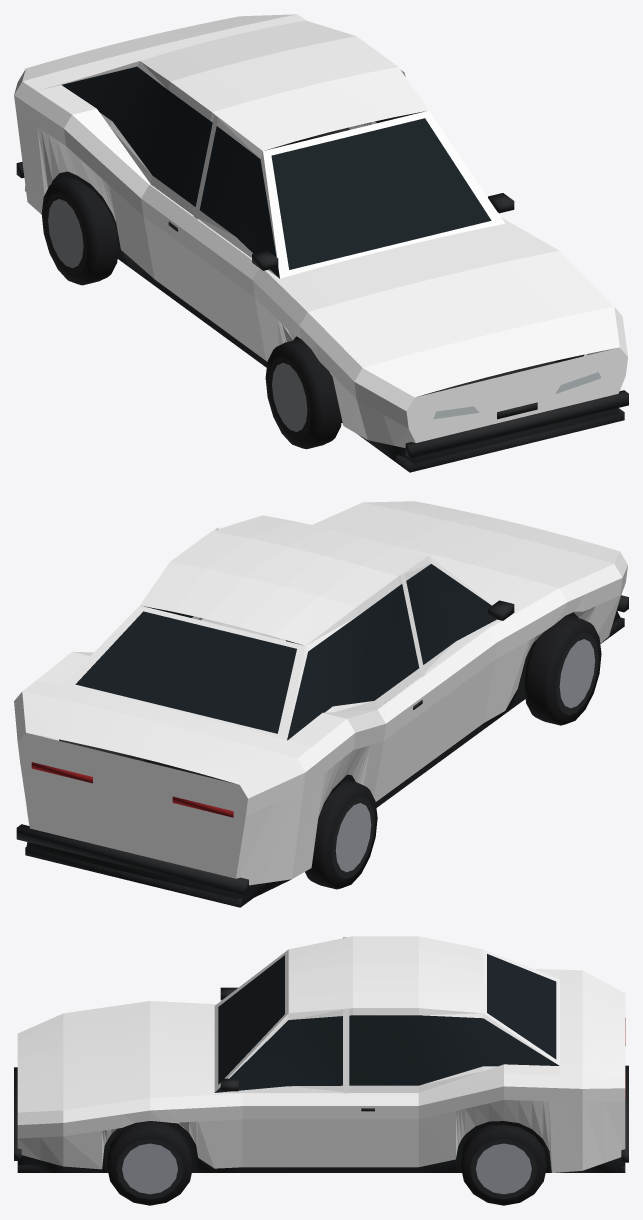
File: tridella_tavola.glb
3 views of the same model, one above another, from view 1: azimuth 30°, elevation 25°; view 2: azimuth 150°, elevation 25°; view 3: azimuth 270°, elevation 25° (orthographic). The views are drawn at different scales.
Parts seen in each view (by area): view 1: Body_Paint, Body_Details, Mount_RearLeft_Wheel_Details, Mount_FrontLeft_Wheel_Details; view 2: Body_Paint, Body_Details, Mount_FrontLeft_Wheel_Details, Mount_RearLeft_Wheel_Details; view 3: Body_Paint, Body_Details, Mount_FrontRight_Wheel_Details, Mount_RearRight_Wheel_Details.
Part boxes in pixels (box(x1,y1,x2,y2)): Body_Paint: box(14, 14, 627, 447); Body_Details: box(16, 66, 628, 472); Mount_RearLeft_Wheel_Details: box(41, 177, 118, 285); Mount_FrontLeft_Wheel_Details: box(265, 339, 341, 449); Body_Paint: box(14, 501, 627, 885); Body_Details: box(16, 564, 628, 907); Mount_FrontLeft_Wheel_Details: box(524, 615, 601, 725); Mount_RearLeft_Wheel_Details: box(305, 780, 377, 889); Body_Paint: box(17, 936, 625, 1172); Body_Details: box(14, 954, 628, 1172); Mount_FrontRight_Wheel_Details: box(107, 1121, 193, 1205); Mount_RearRight_Wheel_Details: box(460, 1124, 546, 1205).
Size of the model in its own units: 1.94 by 1.47 by 4.49.
2 materials, 1 textured.
